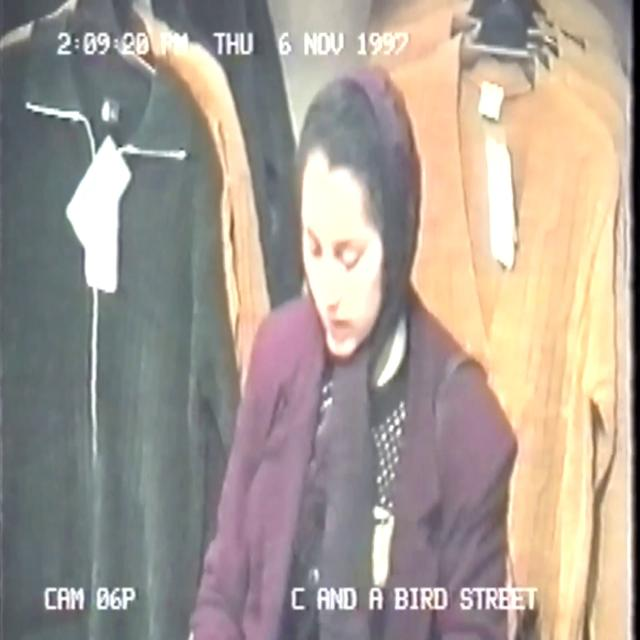normal: (182, 0, 606, 636)
